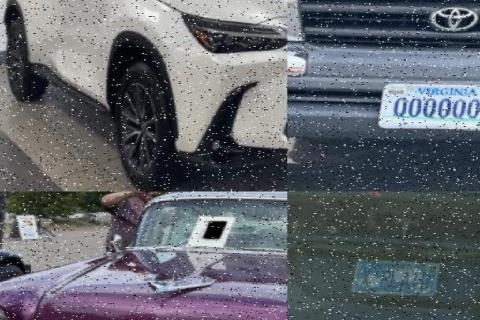LicensePlate: (376, 84, 478, 131), (347, 260, 439, 299)
